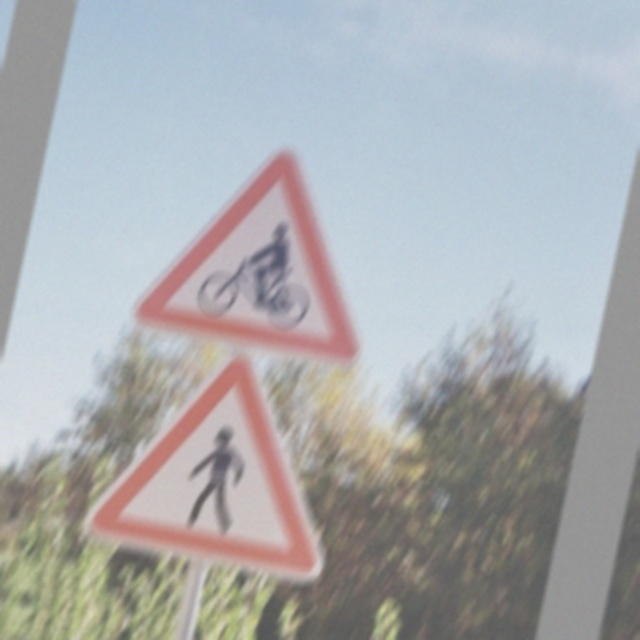Cycle_Crossing: (123, 120, 399, 377)
